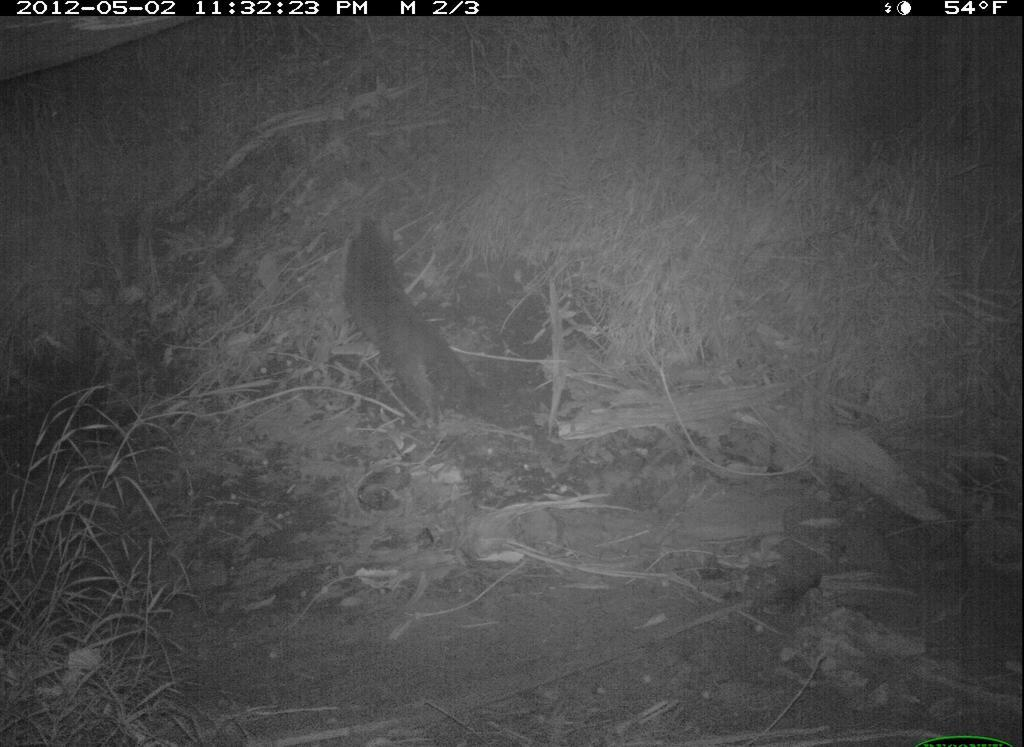cat: (331, 204, 493, 436)
